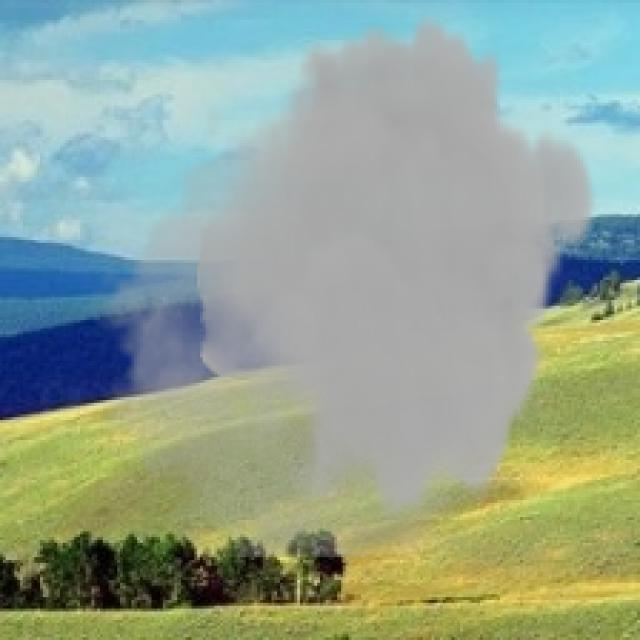smoke: (86, 12, 600, 557)
